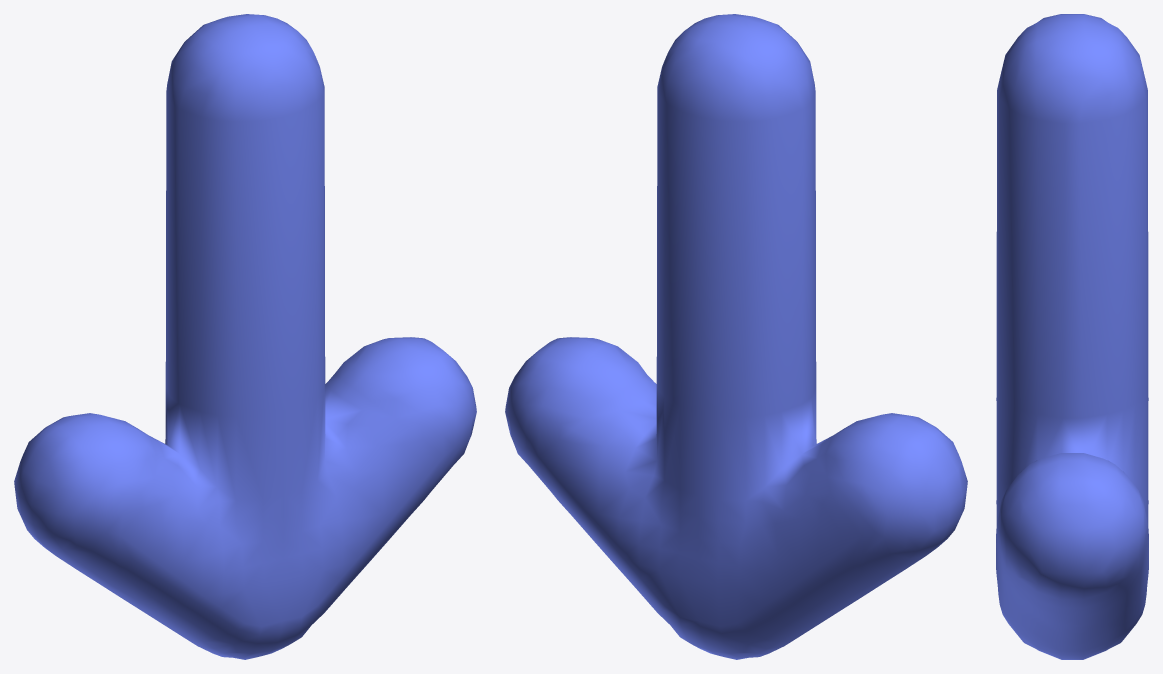
The model's file is arrow.glb.
The picture shows the model from 3 angles, left to right: view 1: azimuth 30°, elevation 25°; view 2: azimuth 150°, elevation 25°; view 3: azimuth 270°, elevation 25°; orthographic projection.
Parts seen in each view (by area): view 1: arrow; view 2: arrow; view 3: arrow.
Part boxes in pixels (x1,y1,x2,y2): arrow: (14,14,476,659); arrow: (505,14,967,659); arrow: (996,14,1148,659).
Size of the model in its own units: 0.671 by 0.9151 by 0.2021.
